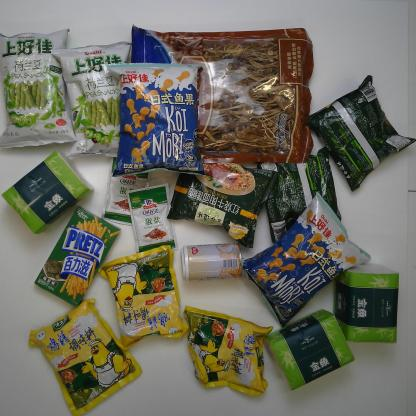Canned Food: (177, 235, 247, 285)
Dessert: (29, 205, 123, 311)
Dried Food: (121, 18, 324, 169)
Instant Noodles: (298, 73, 416, 193), (162, 146, 280, 249), (251, 142, 345, 255)
Puffed Food: (241, 188, 376, 332), (98, 54, 211, 178), (44, 35, 149, 160), (0, 26, 81, 152)
Seasoner: (27, 295, 147, 416), (95, 240, 191, 348), (178, 299, 276, 400), (126, 180, 179, 260), (102, 149, 155, 228)
Tissue: (0, 147, 97, 236), (260, 308, 360, 394), (329, 255, 402, 347)
